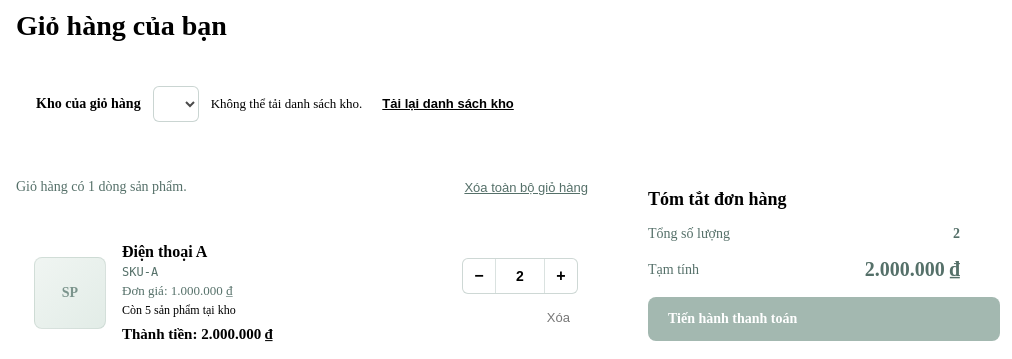
CartPage & Header Badge › keeps cart items visible when branches fail and retries branches
The width and height of the screenshot is (1012, 359).
Expected: the heading "Điện thoại A" is shown, [122,243,207,260]
Expected: the message shows "Không thể tải danh sách kho.", [211,96,362,110]
Click the button "Tải lại danh sách kho".
click(448, 104)  # box [376,95,520,112]
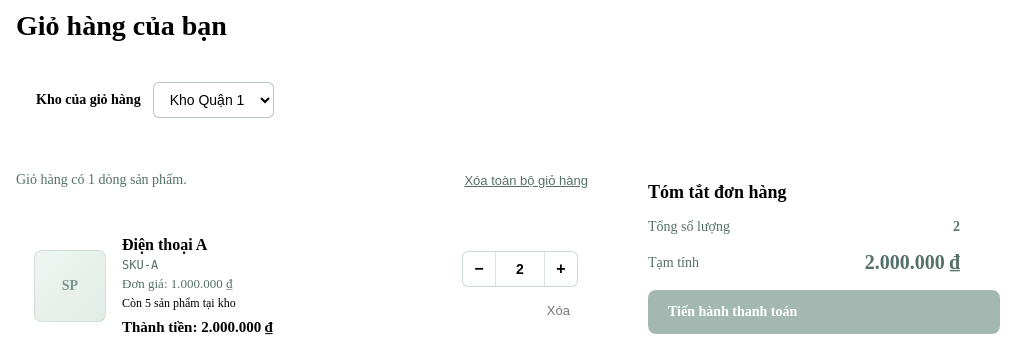
Expected: the dropdown labelled "Kho của giỏ hàng" is enabled, [153,82,274,118]
